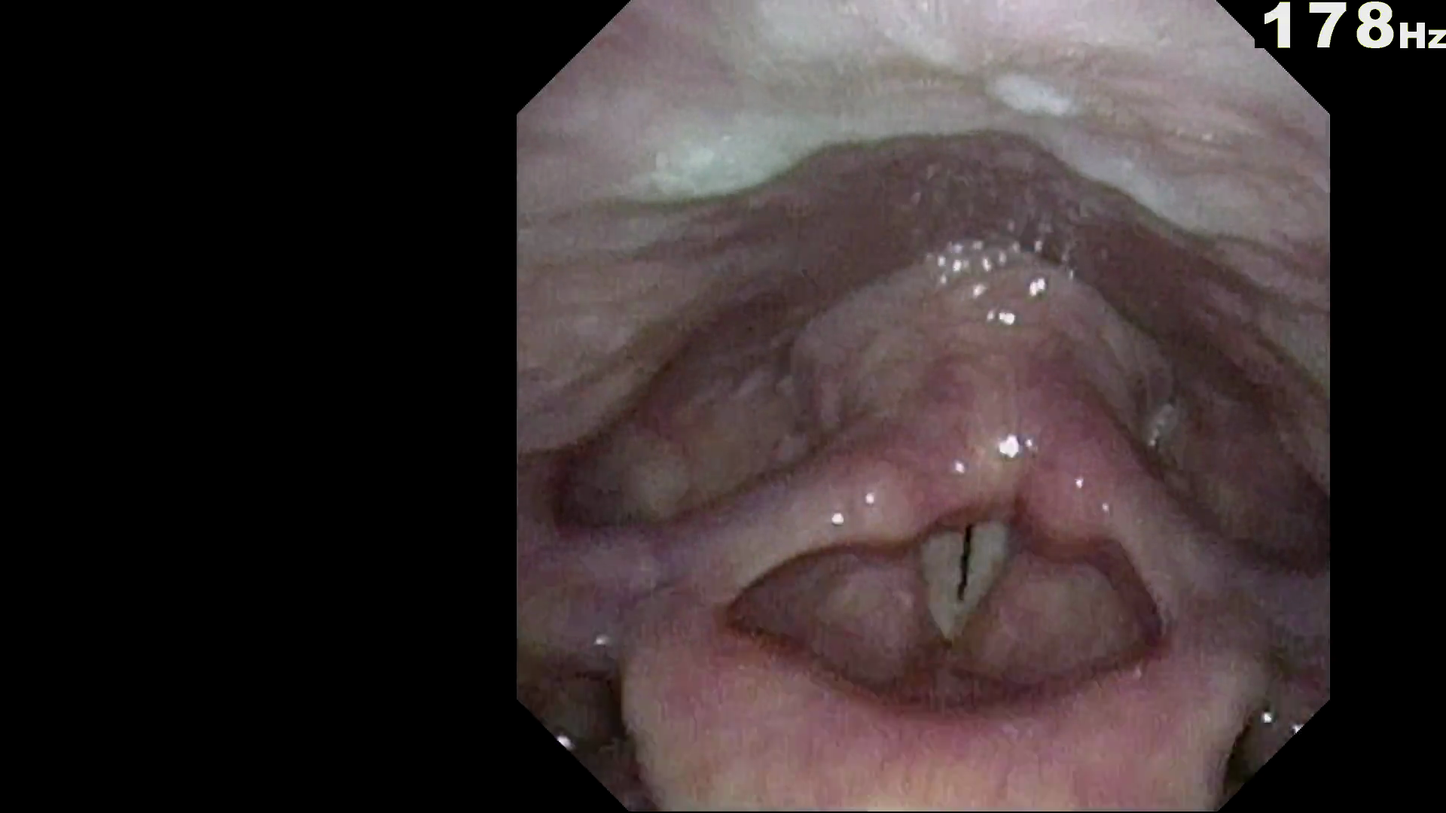epiglottis: (668, 475, 1212, 666)
trachea: (905, 440, 1059, 523)
